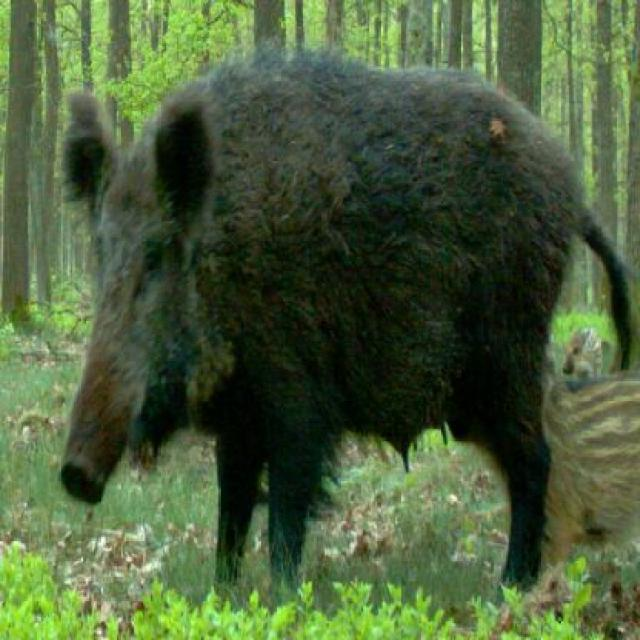pig: (45, 63, 610, 574)
